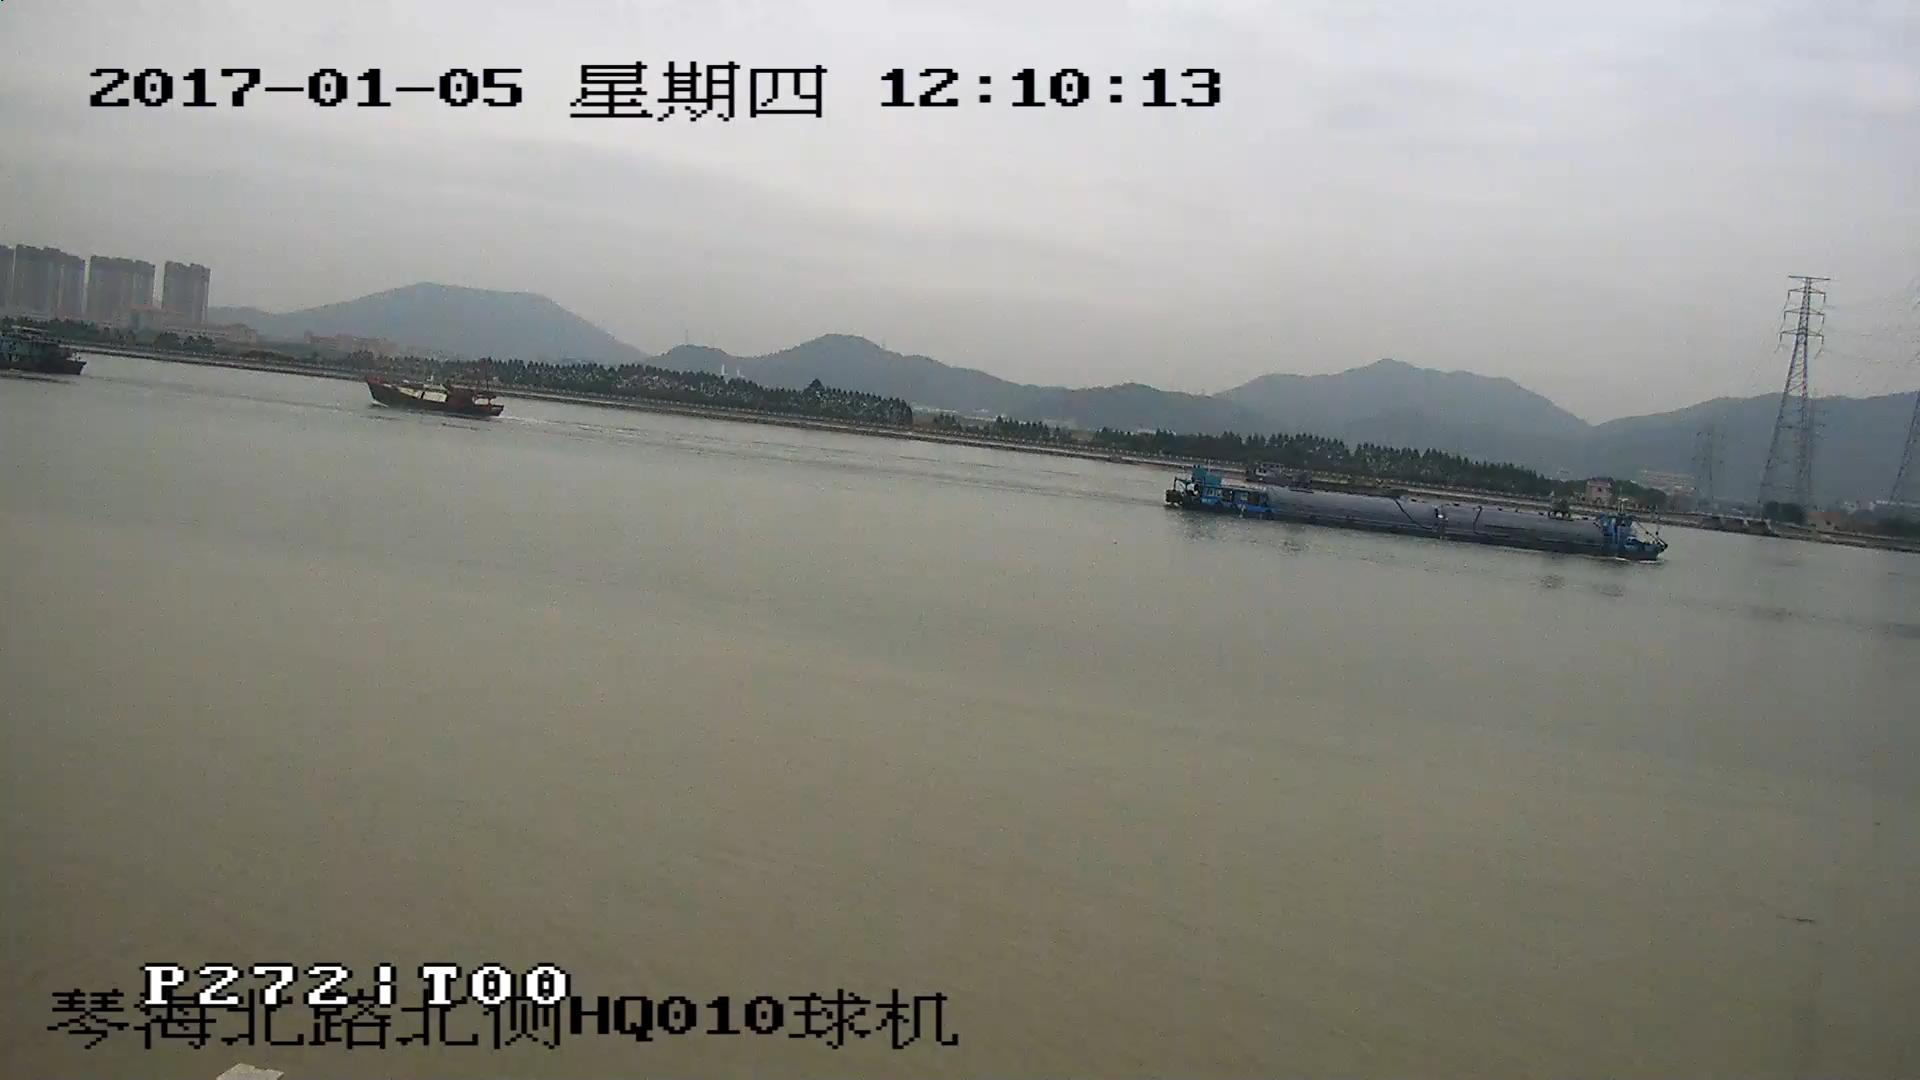bulk cargo carrier: (1165, 468, 1665, 563)
fishing boat: (370, 372, 501, 419)
